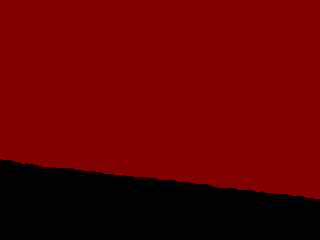Sky: (1, 1, 319, 198)
